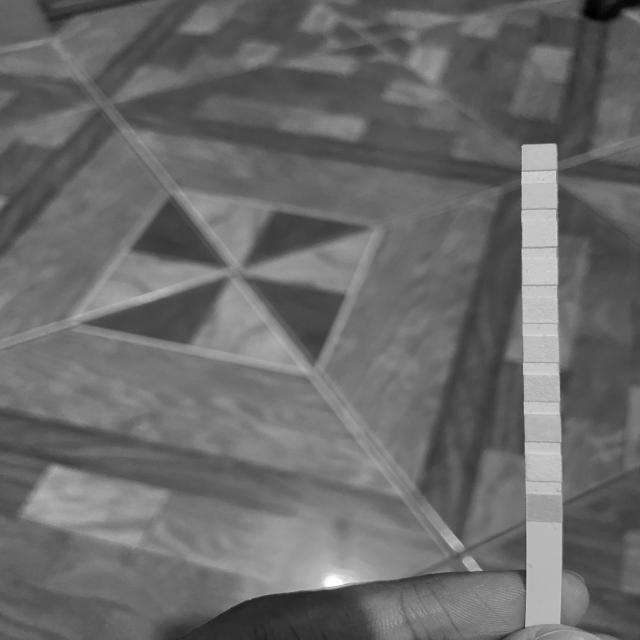Bilirubin: (526, 454, 562, 481)
Blood: (524, 336, 558, 362)
Glucose: (528, 494, 560, 520)
Ketone: (526, 414, 560, 441)
Leukocytes: (522, 145, 556, 169)
Nitrite: (523, 184, 556, 209)
Protein: (523, 260, 557, 284)
SpGravity: (524, 375, 558, 401)
Urobilinogen: (523, 222, 556, 246)
background: (0, 0, 640, 640)
pH: (524, 298, 557, 323)
strip: (521, 143, 562, 623)
